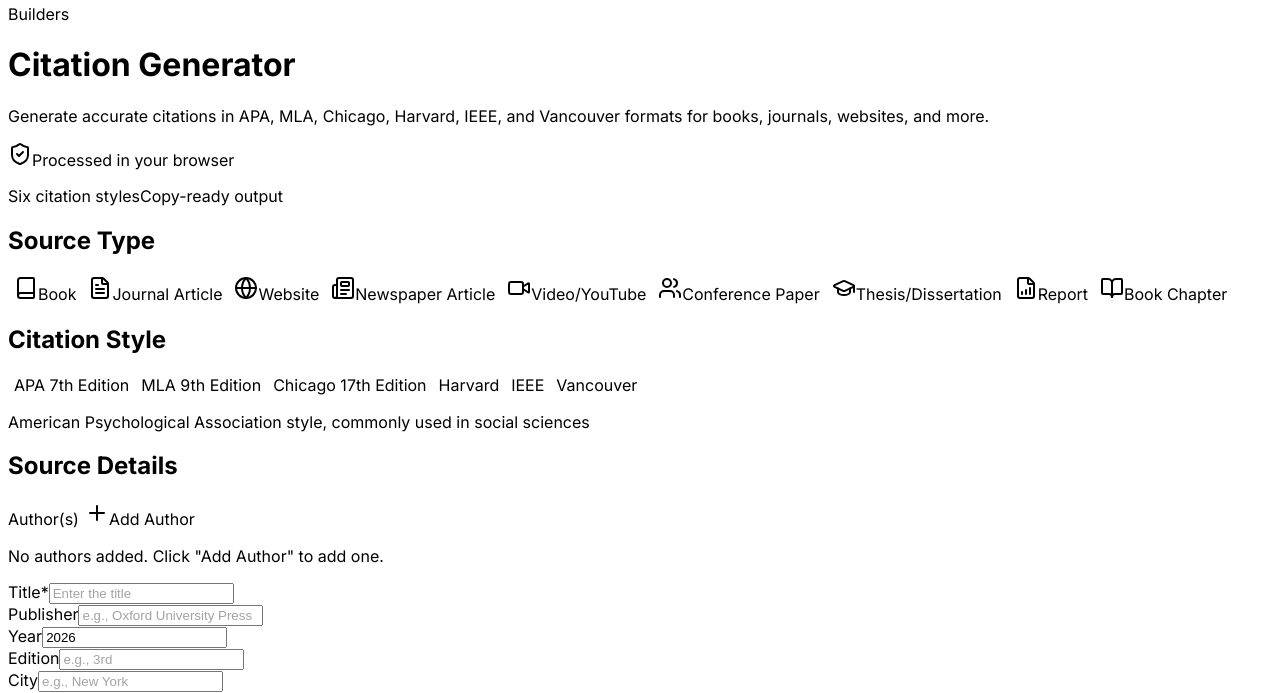
Test: CitationGeneratorPage › Citation Style Selection › changes style guide when selecting different styles
Click the button "MLA 9th Edition".
click(201, 384)  # box [135, 374, 267, 396]
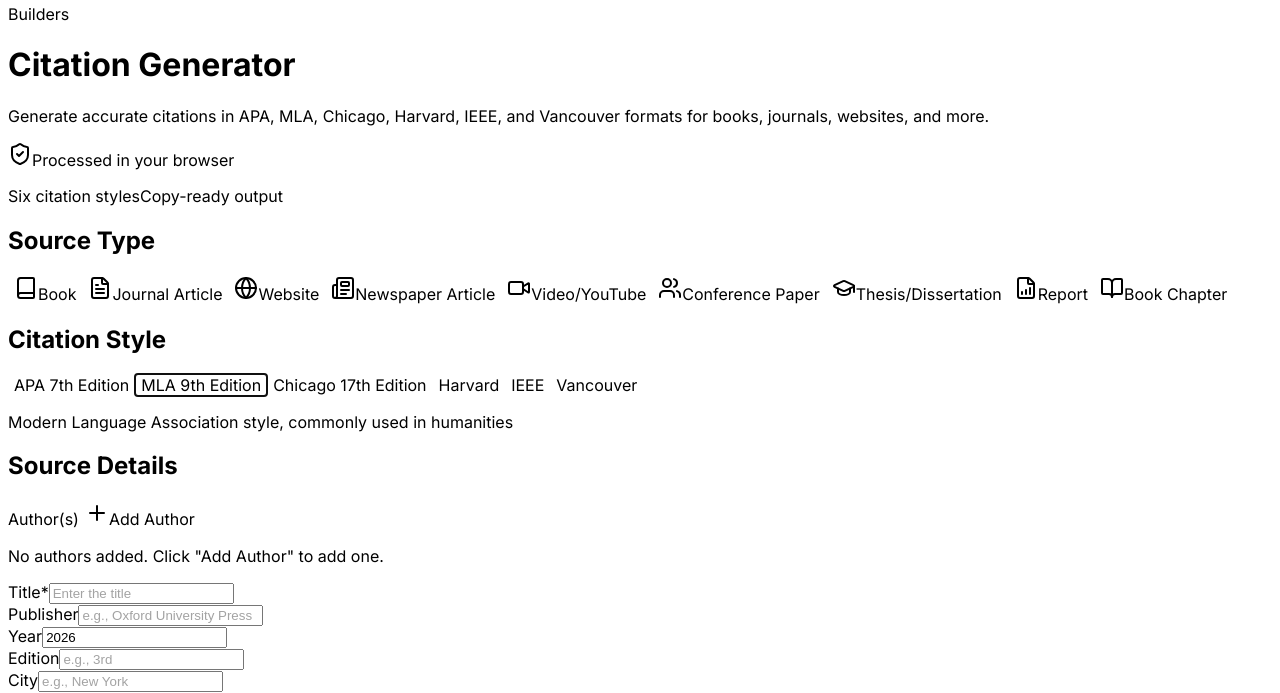
Click the button "Chicago 17th Edition".
click(350, 384)  # box [267, 374, 433, 396]
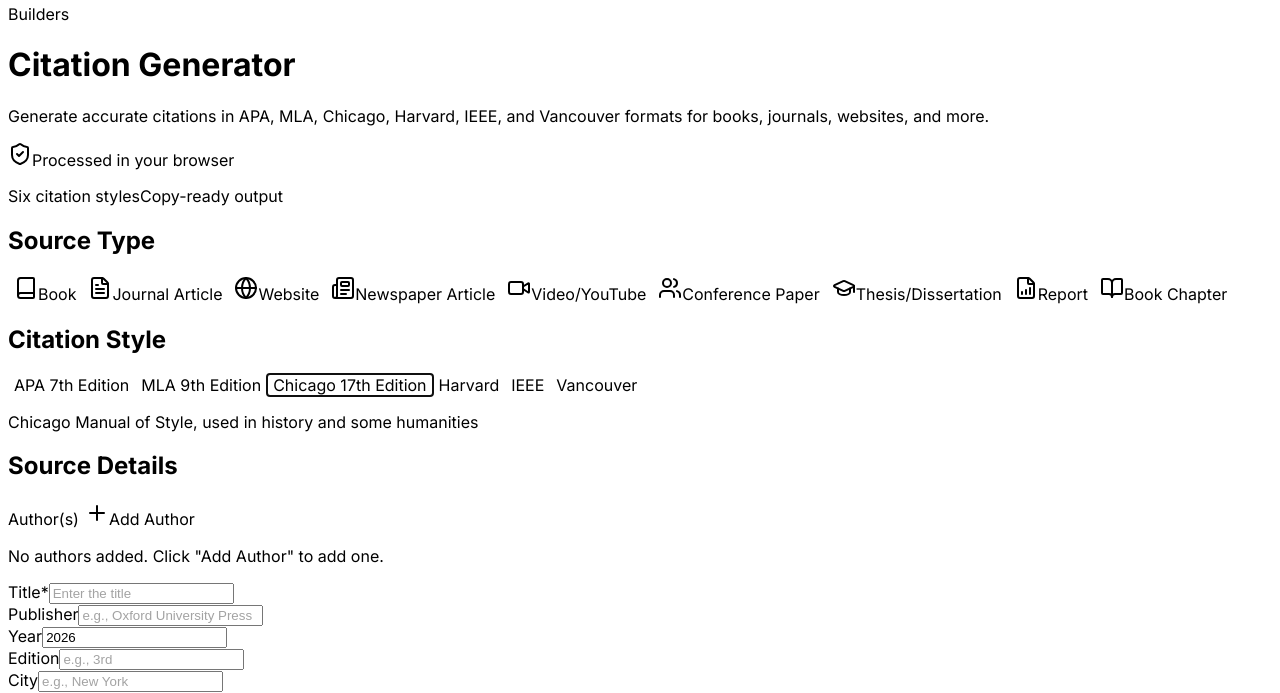
Click the button "Harvard".
click(469, 384)  # box [433, 374, 505, 396]
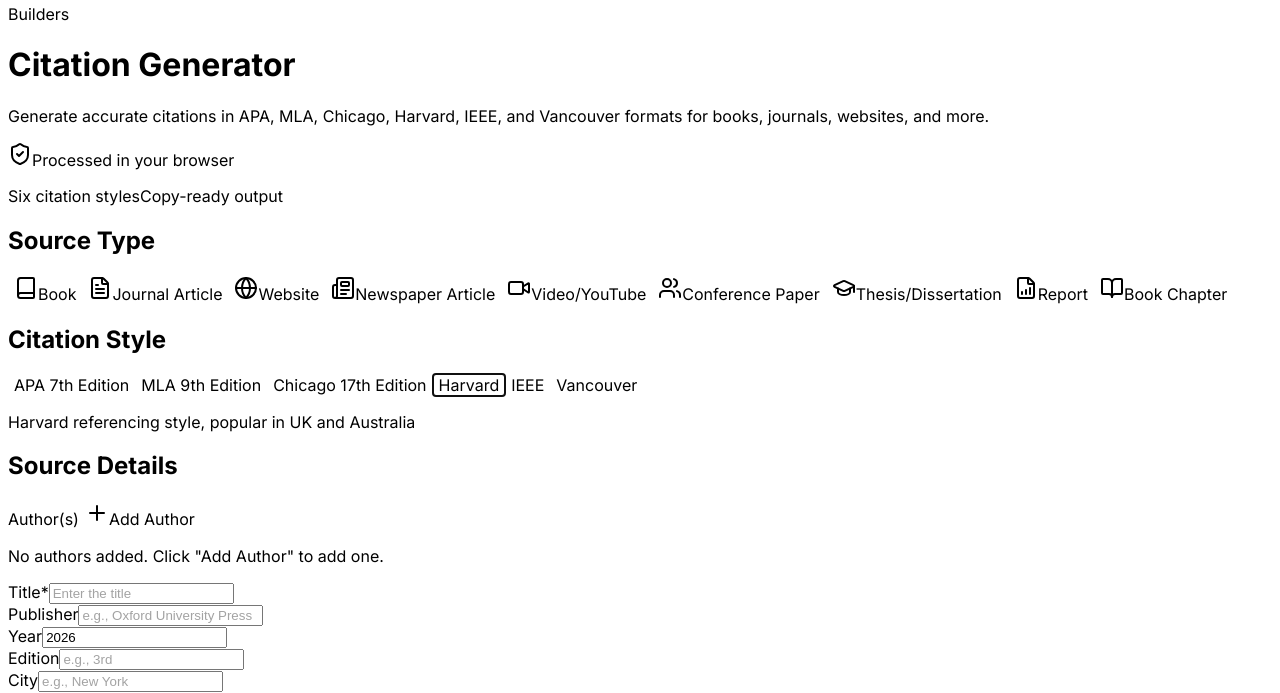
Click the button "IEEE".
click(528, 384)  # box [505, 374, 550, 396]
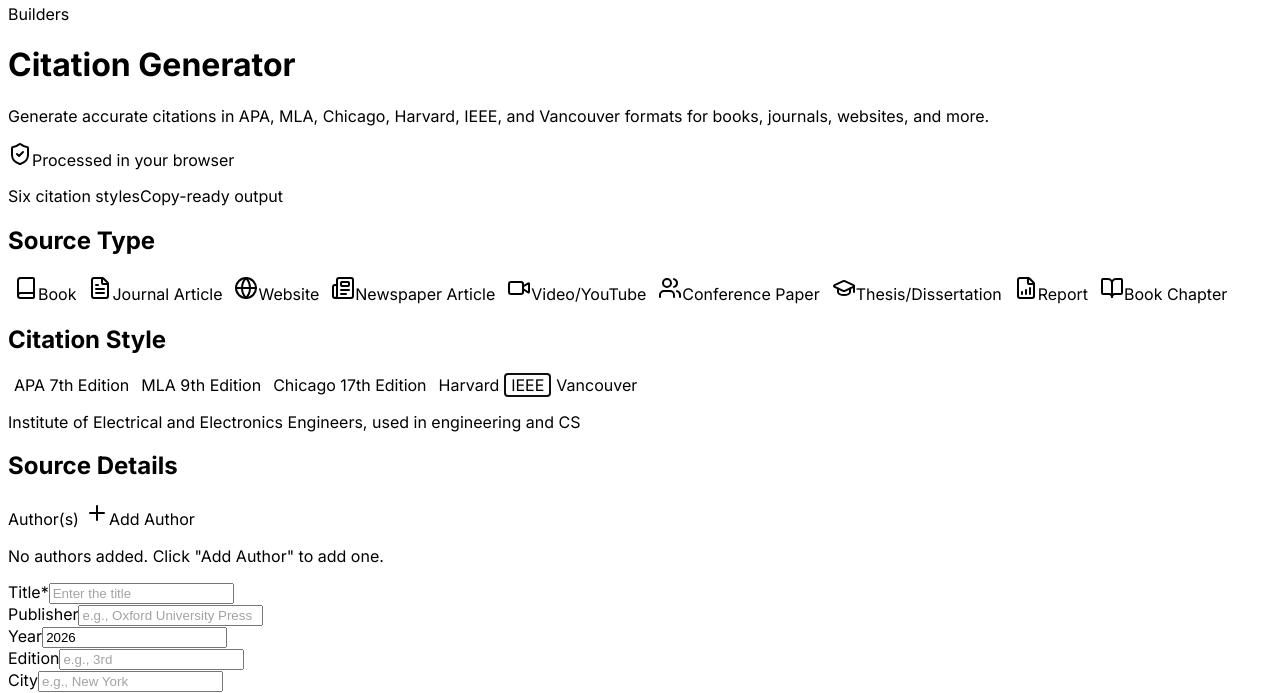
Click the button "Vancouver".
click(597, 384)  # box [550, 374, 643, 396]
(page scrolled)
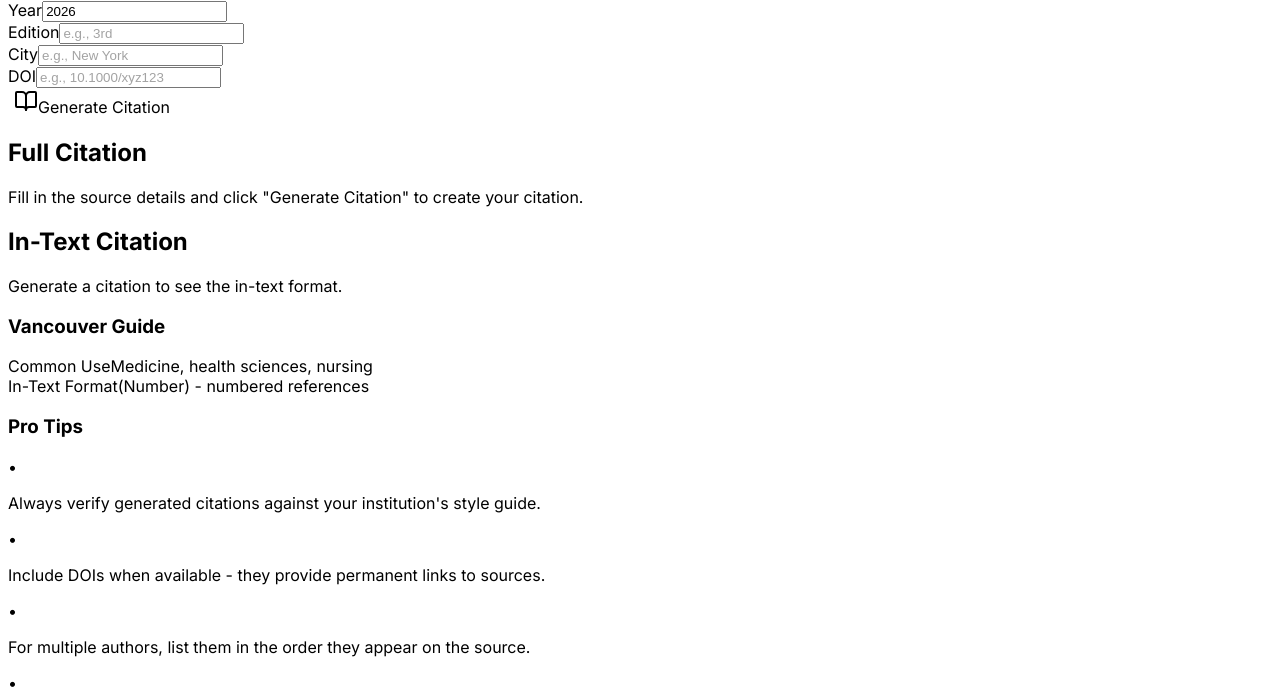
Expected: the heading "Vancouver Guide" is shown, [8, 315, 165, 338]
